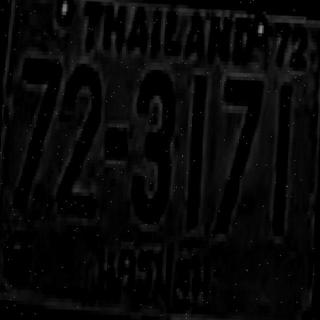N01: (186, 75, 205, 222), (272, 83, 290, 231), (273, 83, 290, 231), (186, 76, 203, 224)
N02: (56, 61, 101, 213)
N03: (130, 69, 172, 218)
N07: (13, 54, 60, 206), (216, 76, 261, 228)
P28: (92, 233, 217, 315)
